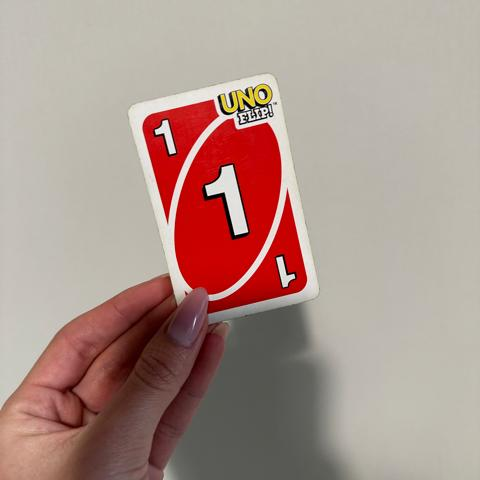7_red: (200, 155, 263, 239), (153, 118, 184, 157), (269, 250, 300, 288)
